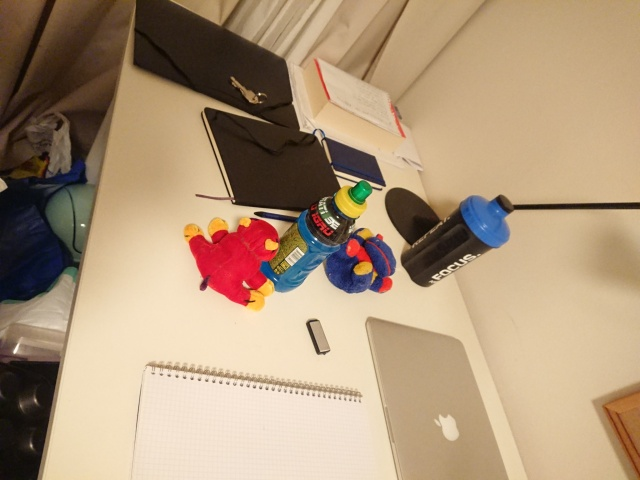Vindi Iso Sport Forest Strawberries 500mL: (253, 179, 373, 294)
